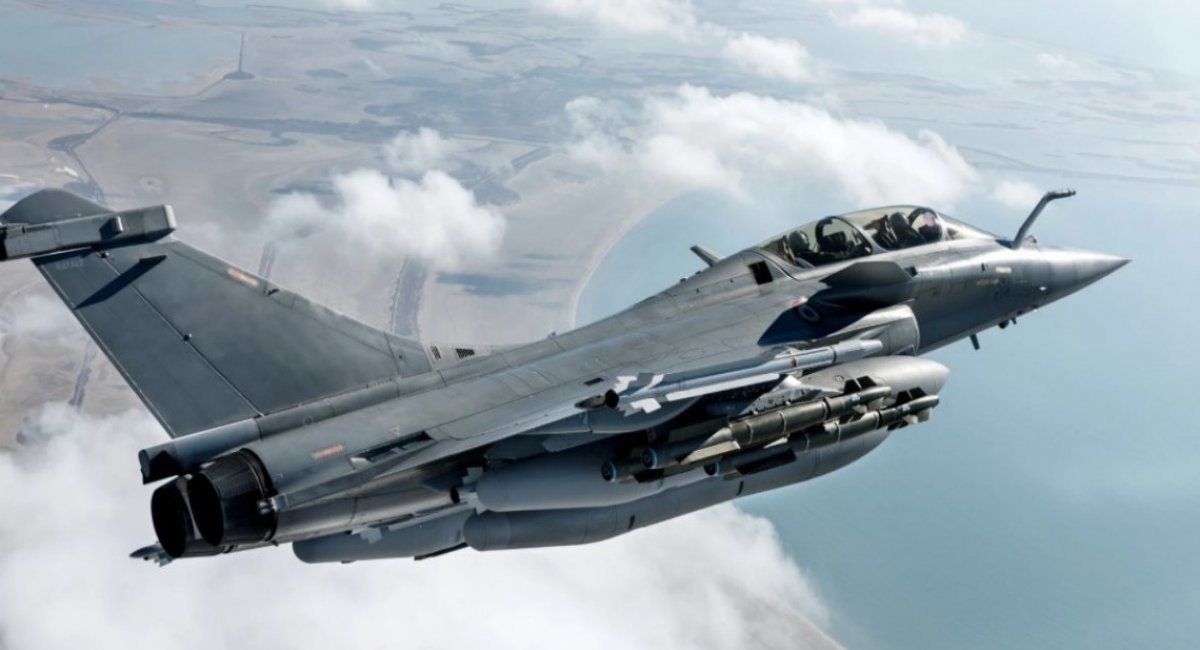Rafale: (2, 181, 1136, 568)
